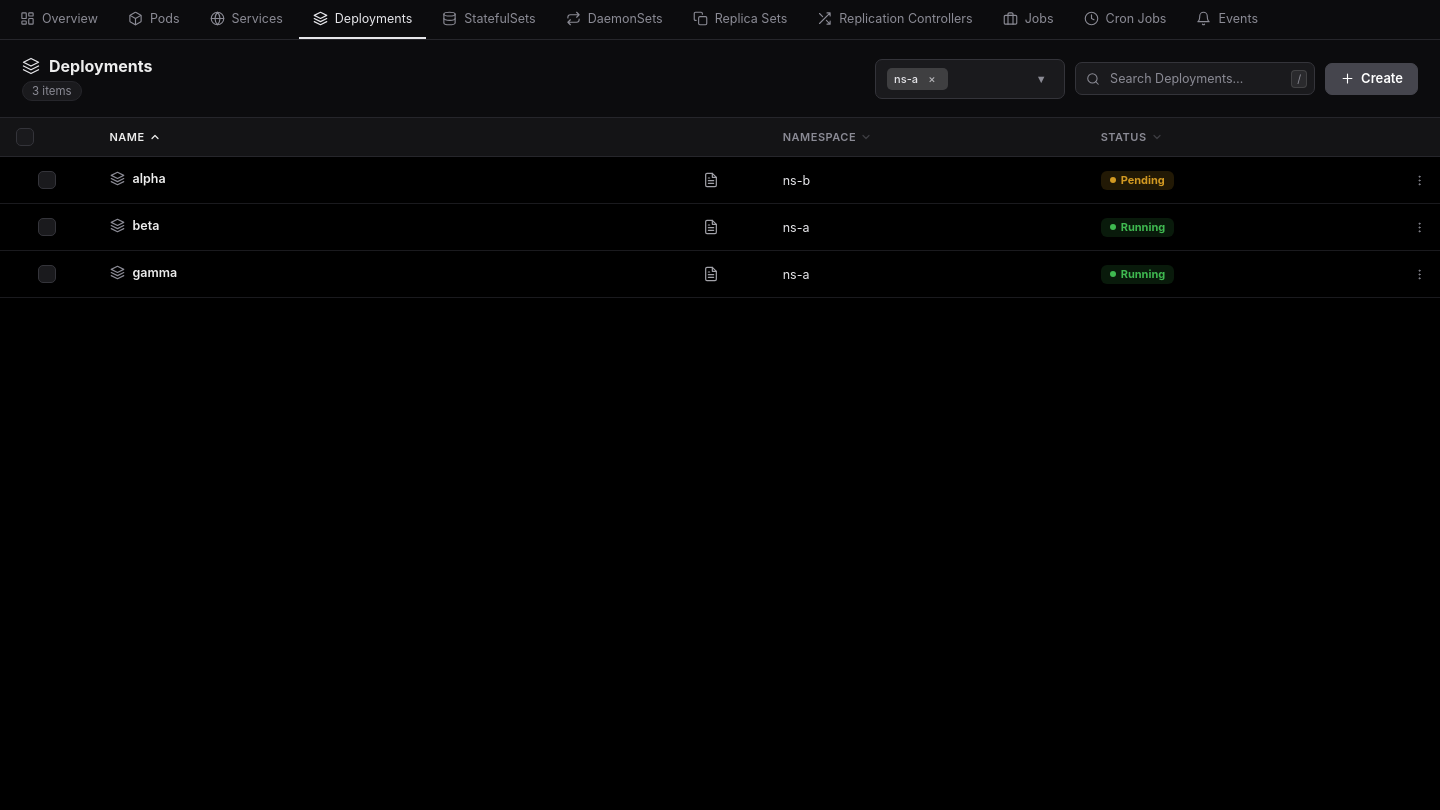
it: ResourceViewer › Create opens the Apply manifests dialog with the selected namespace preselected
Click the button "Create" at (1372, 78), box top-left (1325, 62), bottom-right (1418, 94)
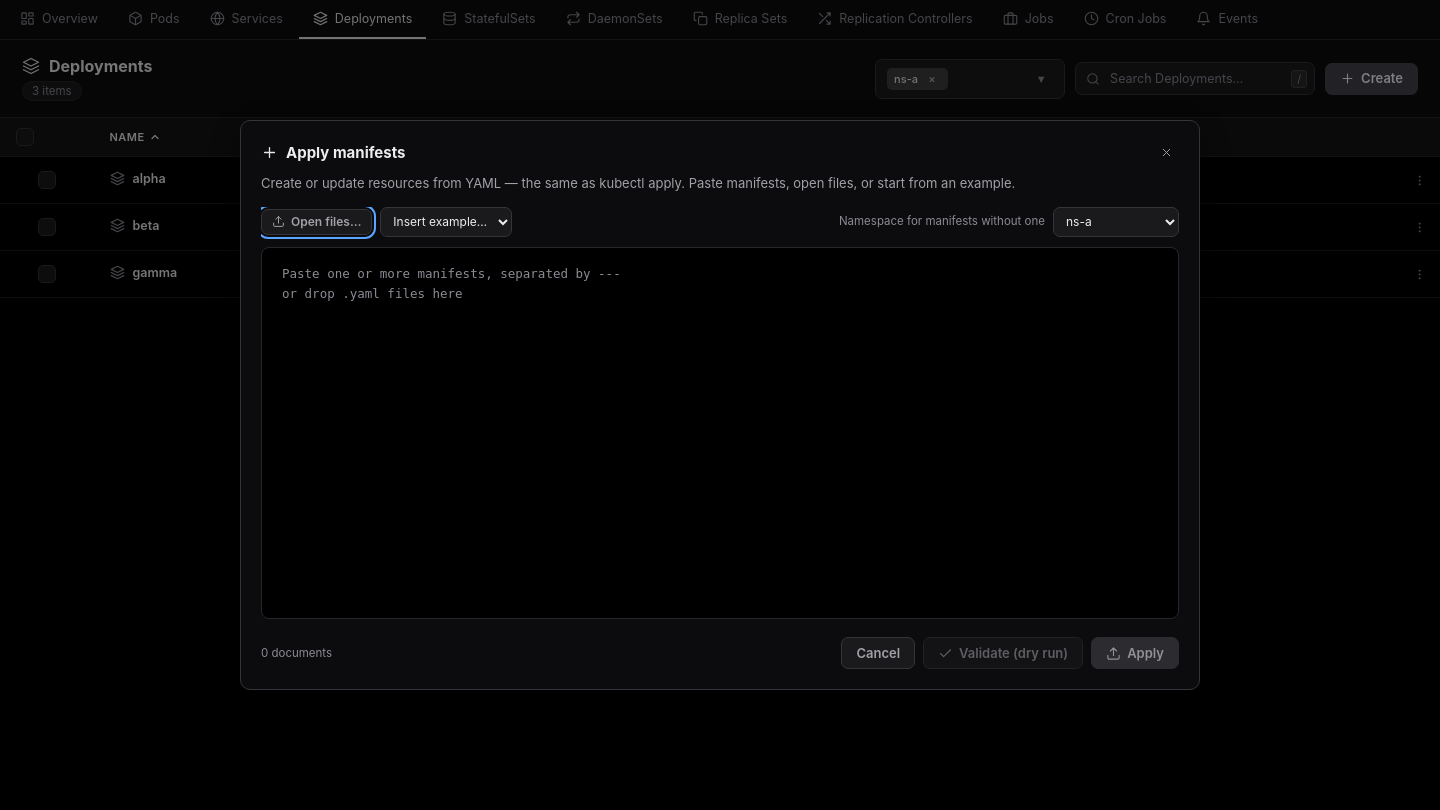
Expected: the dropdown labelled "Namespace for manifests without one" shows "ns-a", top-left (1053, 207), bottom-right (1179, 237)
Click the button "Cancel" at (878, 653), box top-left (841, 637), bottom-right (915, 669)
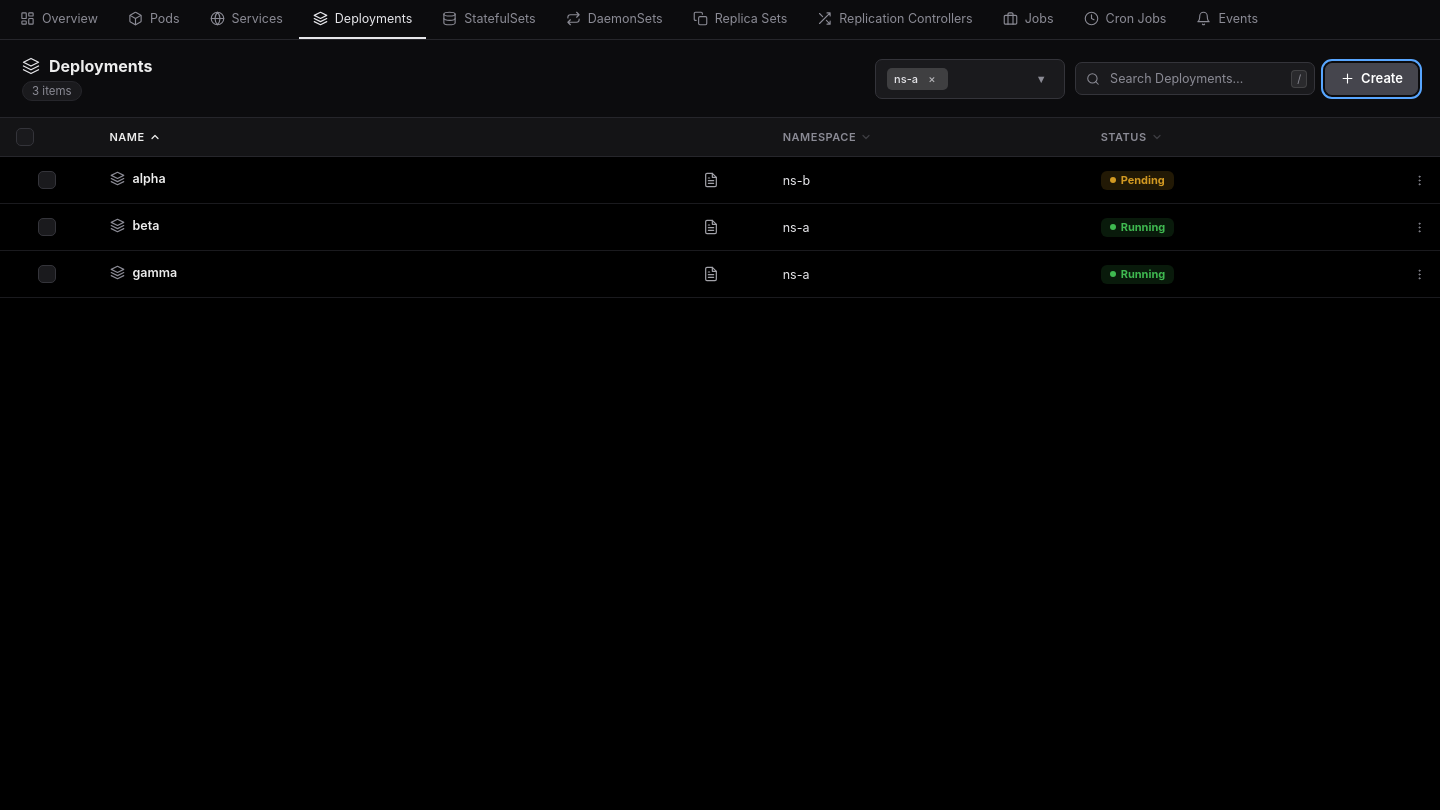
Expected: the heading "Apply manifests" is gone
